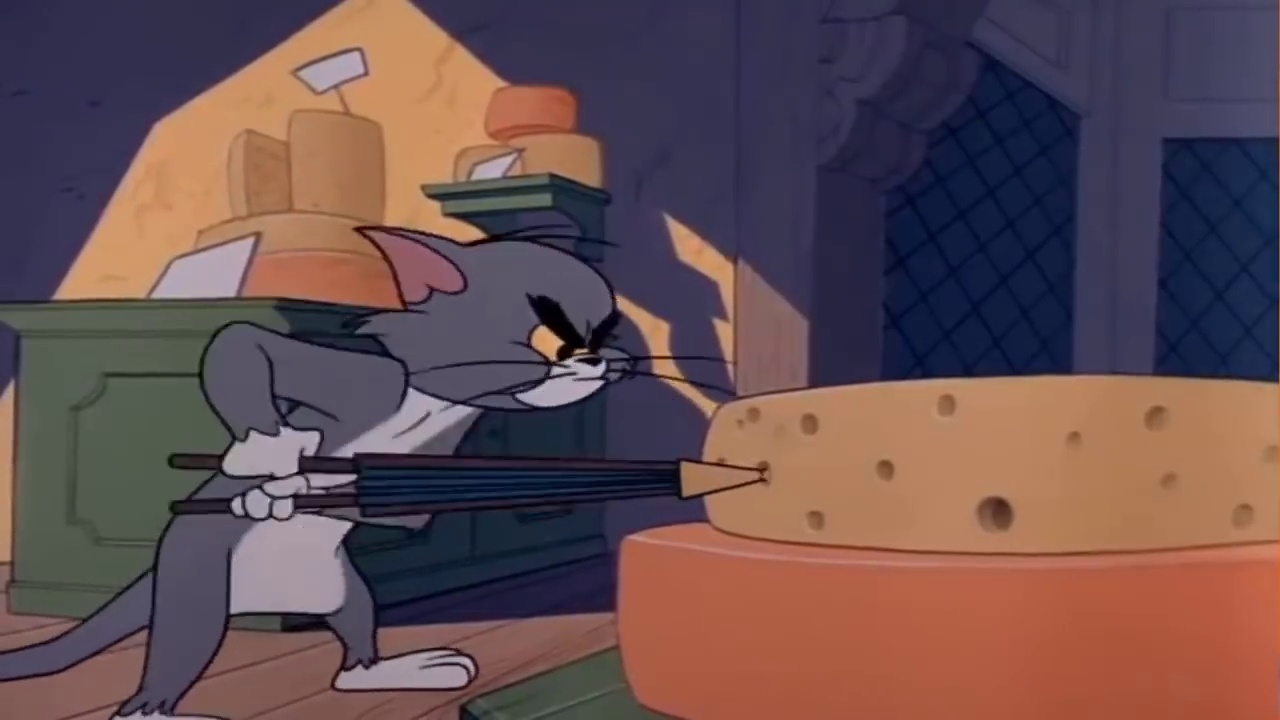face: (509, 286, 627, 417)
